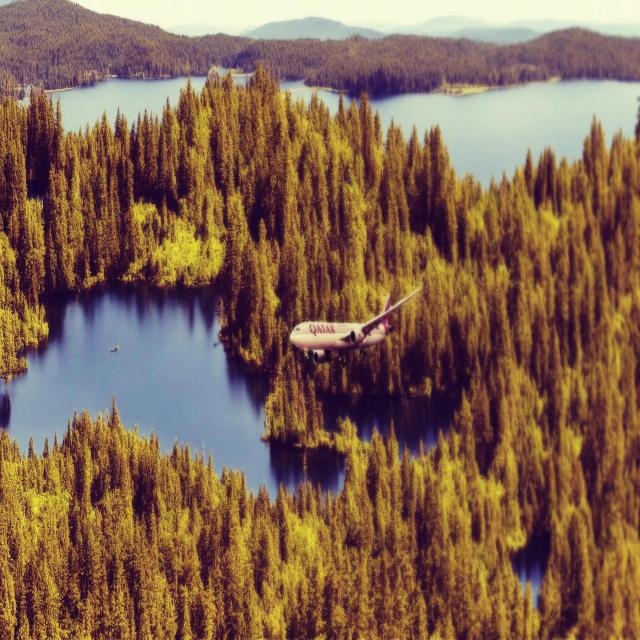airplane: (289, 279, 426, 366)
